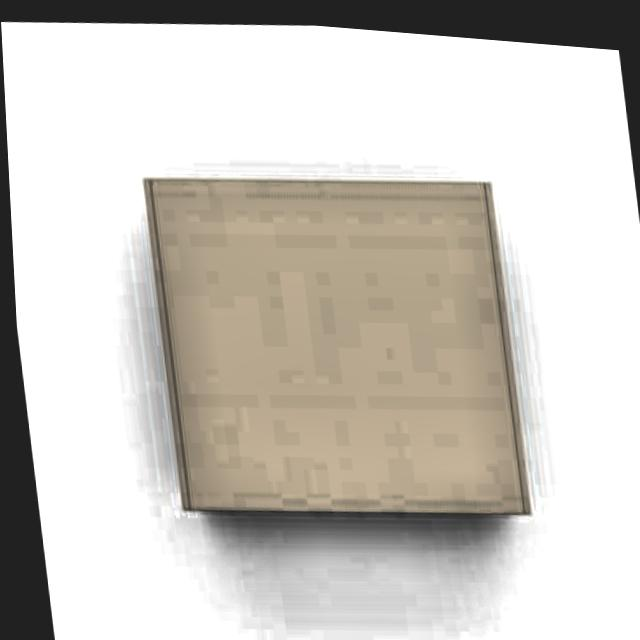Cardbox: (116, 126, 547, 560)
